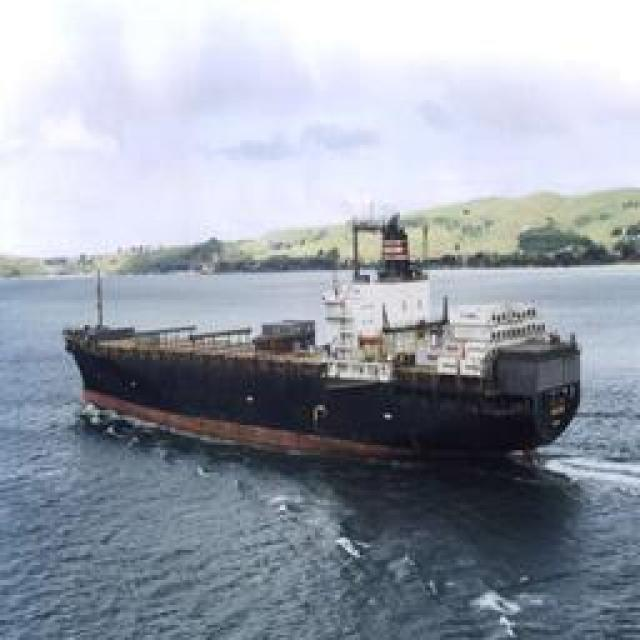CIV_Ship: (58, 277, 570, 465)
